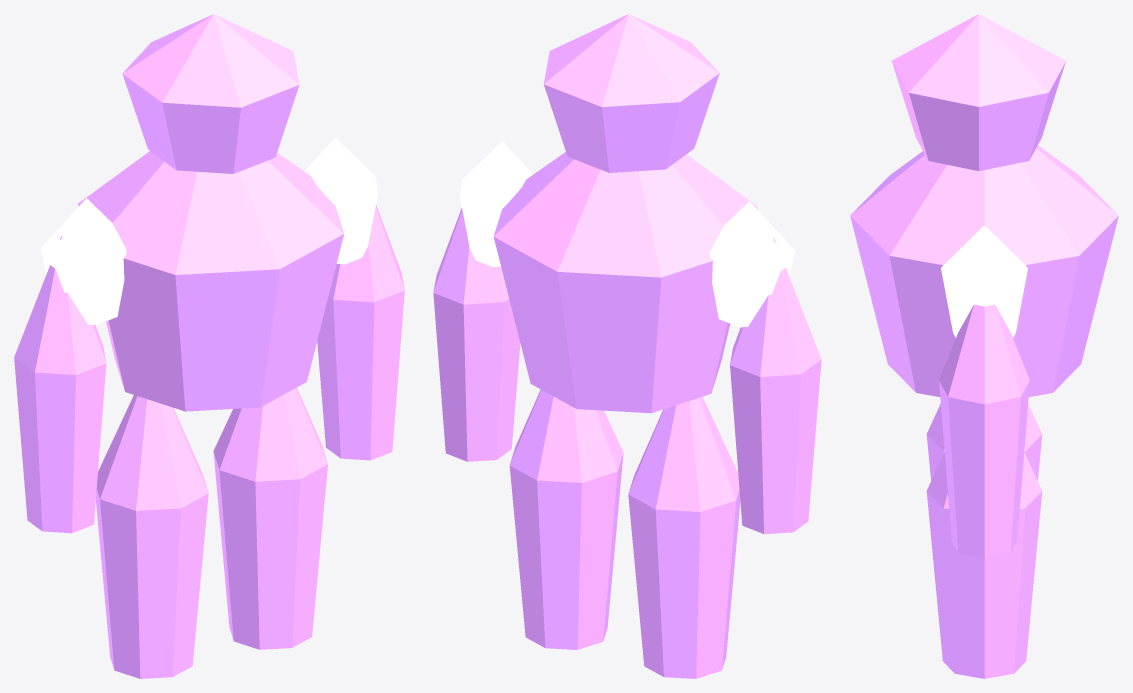
Rendered from deep-fracture-creature-StoneSentinel-seidr.glb.
The picture shows the model from 3 angles, left to right: view 1: azimuth 30°, elevation 25°; view 2: azimuth 150°, elevation 25°; view 3: azimuth 270°, elevation 25°; orthographic projection. The views are drawn at different scales.
Visible parts, largest first — view 1: chest-block, leg-left, leg-right, head-block, arm-left, arm-right, armor-core-left, armor-core-right; view 2: chest-block, leg-left, leg-right, head-block, arm-left, arm-right, armor-core-left, armor-core-right; view 3: chest-block, head-block, arm-right, leg-right, armor-core-right, leg-left.
Boxes of the visible parts, x1,y1,x2,y2 form: chest-block: (78,151,343,411); leg-left: (96,395,208,678); leg-right: (213,387,327,649); head-block: (122,14,299,173); arm-left: (14,235,106,533); arm-right: (317,205,404,460); armor-core-left: (41,198,126,324); armor-core-right: (304,137,378,264); chest-block: (493,152,757,413); leg-left: (628,396,740,678); leg-right: (509,389,623,649); head-block: (543,14,719,172); arm-left: (730,238,821,534); arm-right: (433,208,520,461); armor-core-left: (709,201,794,327); armor-core-right: (460,141,532,266); chest-block: (850,145,1118,396); head-block: (891,14,1065,170); arm-right: (939,304,1029,558); leg-right: (926,452,1042,678); armor-core-right: (941,225,1027,337); leg-left: (926,403,1042,480).
Bounding box in the file's own units: 2.28 × 3.74 × 1.44.
